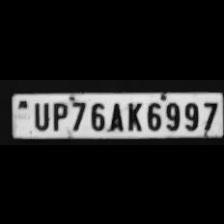6: (87, 99, 107, 131), (142, 98, 162, 130)
7: (199, 99, 219, 131), (68, 98, 86, 130)
9: (180, 98, 200, 130), (162, 98, 180, 130)
A: (106, 99, 124, 131)
K: (122, 99, 142, 131)
P: (48, 98, 68, 130)
U: (30, 98, 50, 130)
